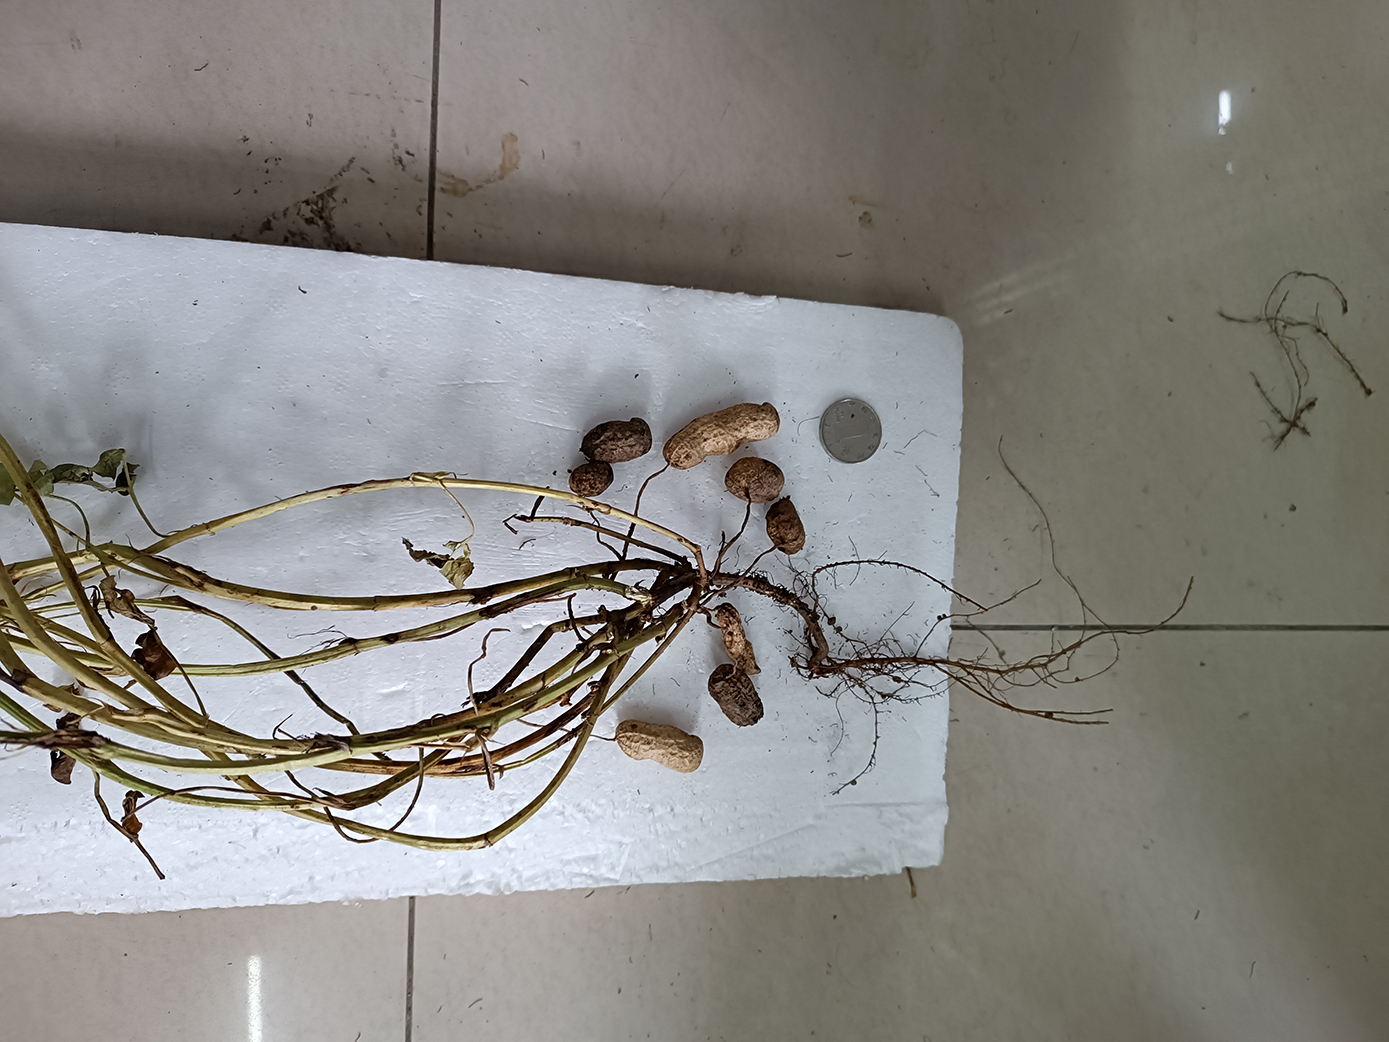h: (664, 400, 780, 468), (616, 720, 702, 772)
l: (714, 603, 762, 676), (709, 664, 764, 726), (578, 416, 652, 461), (724, 456, 783, 502), (766, 497, 806, 553), (569, 461, 614, 496)
